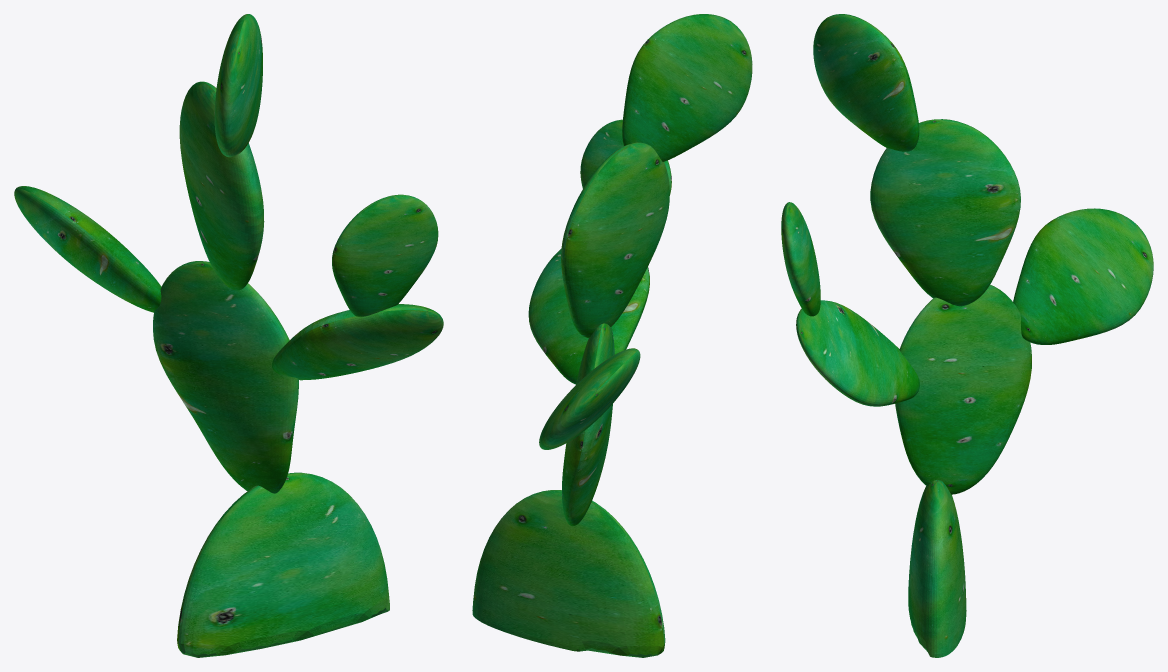
Rendered from OpuntiaCactus2.fbx.
The picture shows the model from 3 angles, left to right: view 1: azimuth 30°, elevation 25°; view 2: azimuth 150°, elevation 25°; view 3: azimuth 270°, elevation 25°; orthographic projection. The views are drawn at different scales.
Parts seen in each view (by area): view 1: Sphere.008, Sphere.009, Sphere.012, Sphere.015, Sphere.011, Sphere.010, Sphere.014; view 2: Sphere.008, Sphere.012, Sphere.014, Sphere.011, Sphere.009, Sphere.010, Sphere.015; view 3: Sphere.009, Sphere.012, Sphere.010, Sphere.014, Sphere.008, Sphere.011, Sphere.015.
Boxes of the visible parts, box(x1,y1,x2,y2) form: Sphere.008: box(177, 472, 389, 657); Sphere.009: box(153, 261, 298, 493); Sphere.012: box(179, 81, 264, 290); Sphere.015: box(332, 194, 438, 316); Sphere.011: box(272, 304, 443, 380); Sphere.010: box(14, 186, 161, 312); Sphere.014: box(214, 14, 262, 157); Sphere.008: box(472, 490, 665, 657); Sphere.012: box(561, 142, 669, 337); Sphere.014: box(622, 14, 752, 161); Sphere.011: box(528, 248, 649, 384); Sphere.009: box(562, 323, 614, 526); Sphere.010: box(539, 348, 640, 449); Sphere.015: box(580, 119, 671, 195); Sphere.009: box(895, 284, 1031, 494); Sphere.012: box(870, 119, 1020, 306); Sphere.010: box(1013, 208, 1153, 344); Sphere.014: box(813, 14, 919, 151); Sphere.008: box(908, 480, 966, 657); Sphere.011: box(796, 300, 919, 406); Sphere.015: box(781, 202, 820, 316).
Size of the model in its own units: 174 by 421 by 253.
1 material, 1 textured.
